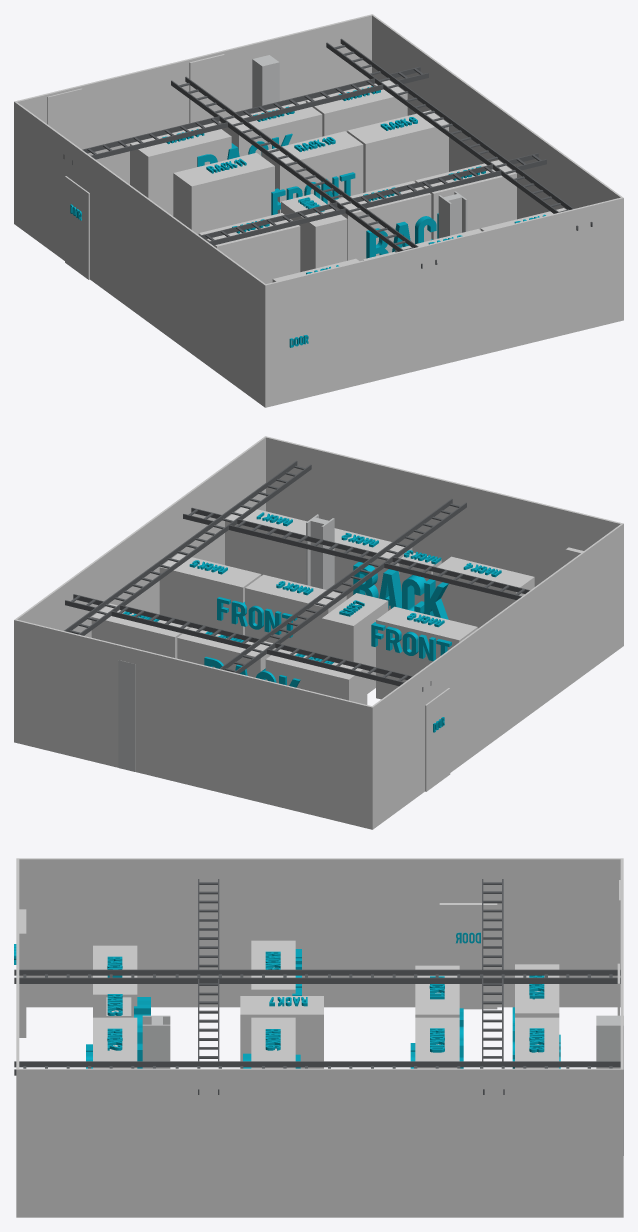
The model's file is M1 South ComputerRoom.glb.
3 views of the same model, one above another, from view 1: azimuth 30°, elevation 25°; view 2: azimuth 150°, elevation 25°; view 3: azimuth 270°, elevation 25° (orthographic). The views are drawn at different scales.
Visible parts, largest first — view 1: Mesh_Mesh_head_geo.001_lambert2SG.001; view 2: Mesh_Mesh_head_geo.001_lambert2SG.001; view 3: Mesh_Mesh_head_geo.001_lambert2SG.001.
Boxes of the visible parts, bbox=[...] form: Mesh_Mesh_head_geo.001_lambert2SG.001: bbox=[14, 14, 623, 407]; Mesh_Mesh_head_geo.001_lambert2SG.001: bbox=[14, 436, 623, 829]; Mesh_Mesh_head_geo.001_lambert2SG.001: bbox=[14, 858, 623, 1217].
Size of the model in its own units: 371 by 120 by 449.
